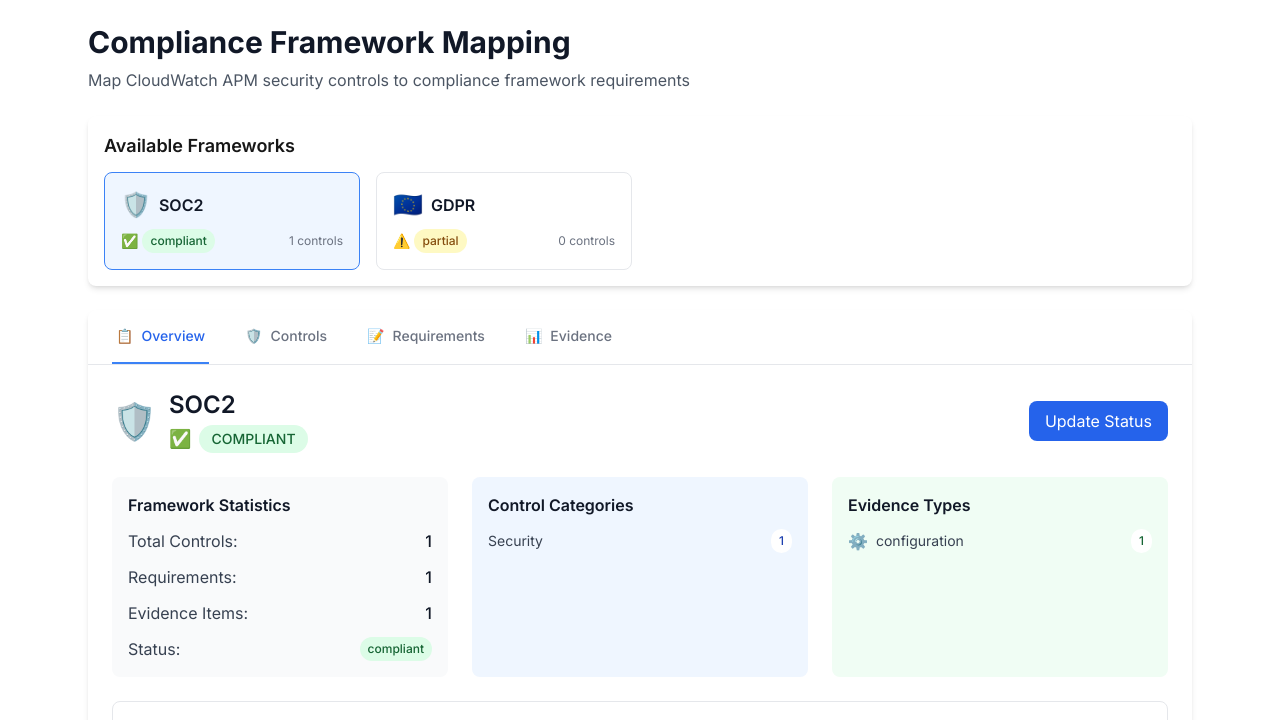
Test: ComplianceFrameworkMapper › navigates between tabs correctly
The width and height of the screenshot is (1280, 720).
// Click on Controls tab
Click the text "Controls": (299, 336) [270,326,327,346]
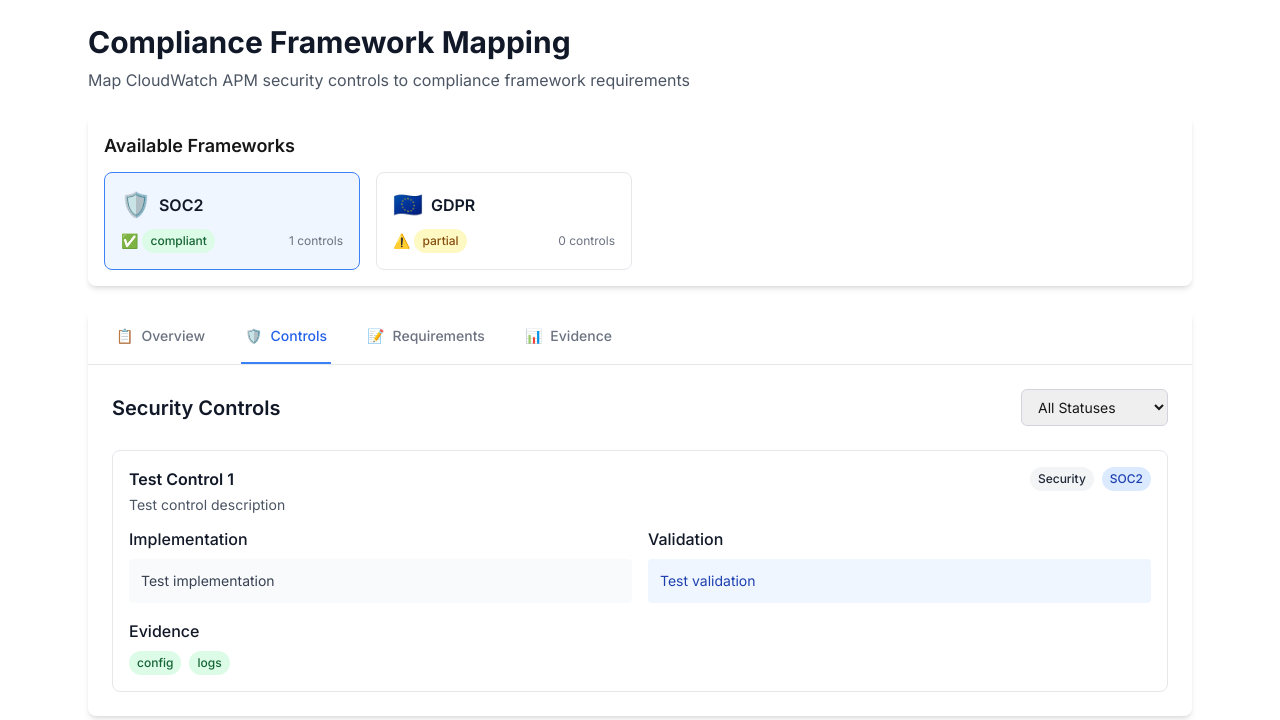
Expected: the heading "Security Controls" is shown, [112,394,280,422]
Expected: the heading "Test Control 1" is shown, [129,469,234,489]
